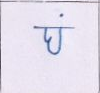anusvara: (60, 14, 63, 17)
